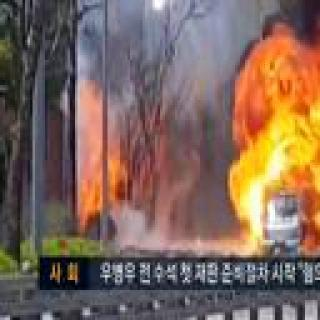fire: (229, 30, 320, 257), (76, 155, 126, 228)
